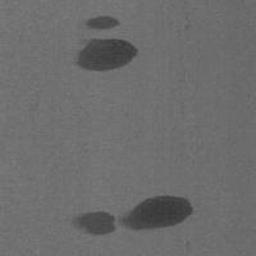Oil spot: (67, 193, 196, 237), (73, 36, 141, 73), (76, 14, 122, 32)
